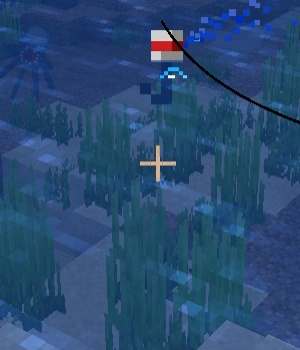up: (141, 24, 192, 108)
